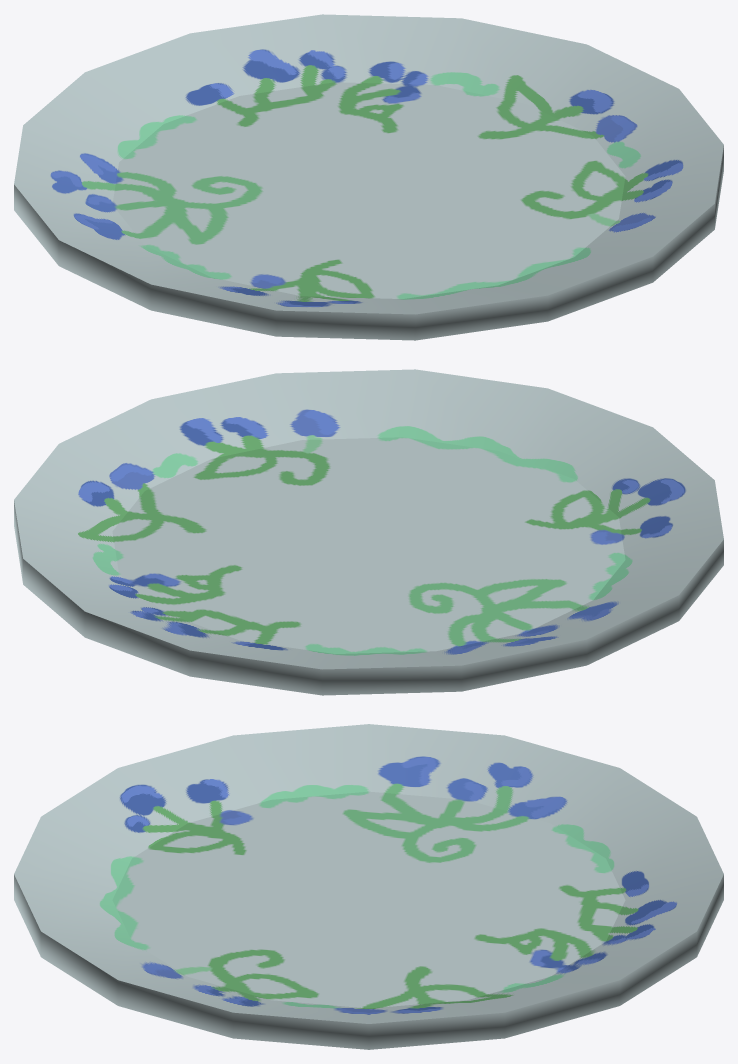
File: plate.fbx
3 views of the same model, one above another, from view 1: azimuth 30°, elevation 25°; view 2: azimuth 150°, elevation 25°; view 3: azimuth 270°, elevation 25° (orthographic).
Parts seen in each view (by area): view 1: Cylinder; view 2: Cylinder; view 3: Cylinder.
Boxes of the visible parts, left/top/right/bottom form: Cylinder: left=14, top=14, right=723, bottom=340; Cylinder: left=14, top=369, right=723, bottom=695; Cylinder: left=14, top=724, right=723, bottom=1049.
Size of the model in its own units: 200 by 15.6 by 200.
1 material, 1 textured.
